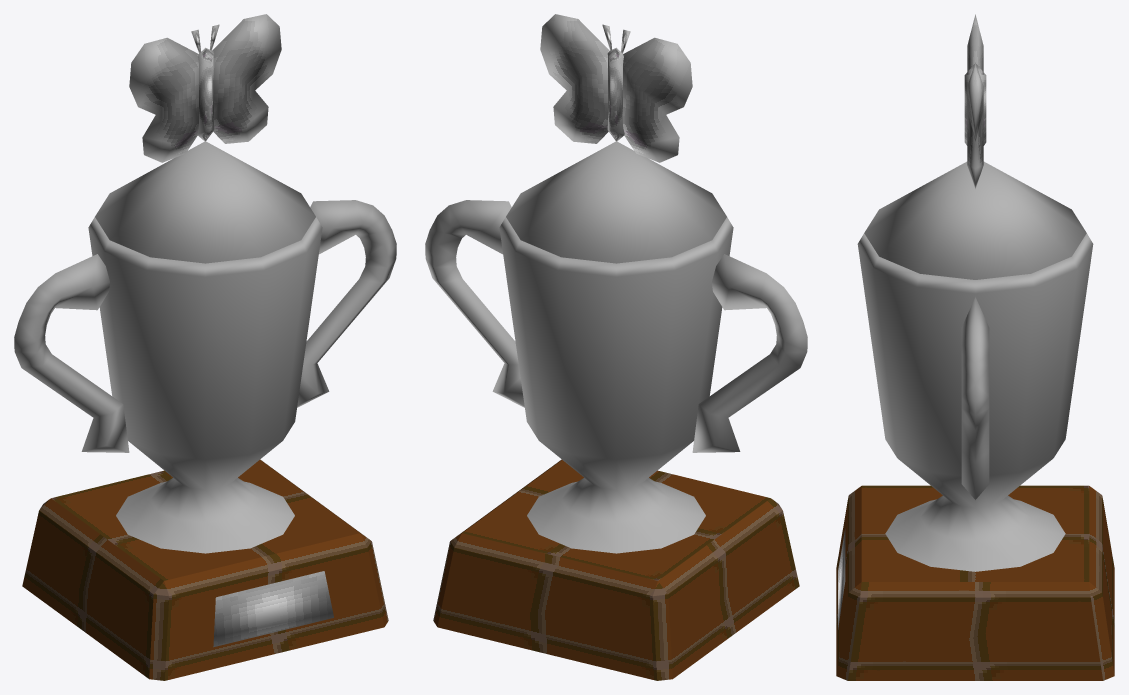
Rendered from int_oth_trophy_iB.dae.
3 views of the same model, side by side, from view 1: azimuth 30°, elevation 25°; view 2: azimuth 150°, elevation 25°; view 3: azimuth 270°, elevation 25° (orthographic).
Visible parts, largest first — view 1: int_oth_trophy_iB; view 2: int_oth_trophy_iB; view 3: int_oth_trophy_iB.
Boxes of the visible parts, bbox=[...] form: int_oth_trophy_iB: bbox=[14, 14, 396, 680]; int_oth_trophy_iB: bbox=[425, 14, 807, 680]; int_oth_trophy_iB: bbox=[836, 14, 1114, 680].
Bounding box in the file's own units: 25.56 × 36.74 × 16.
2 materials, 2 textured.
